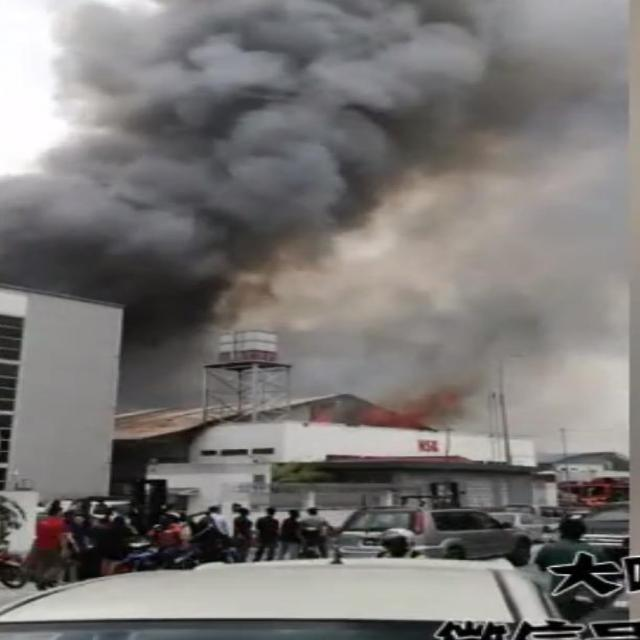Smoke: (0, 1, 628, 427)
